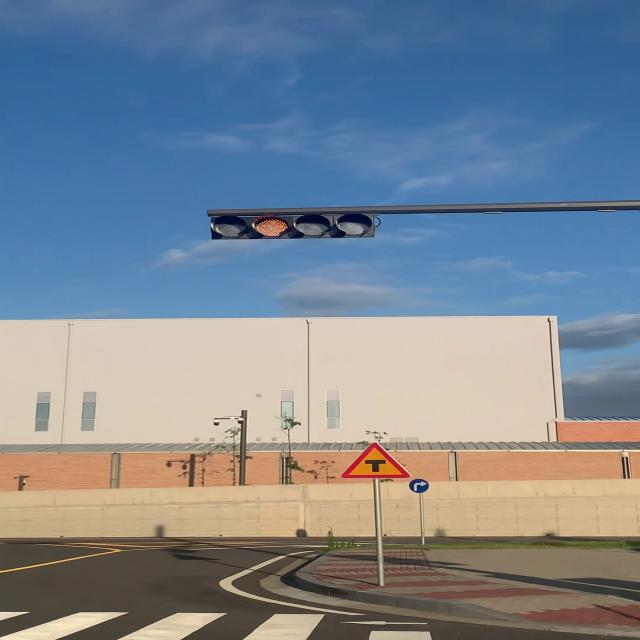yellow_light: (211, 213, 375, 239)
